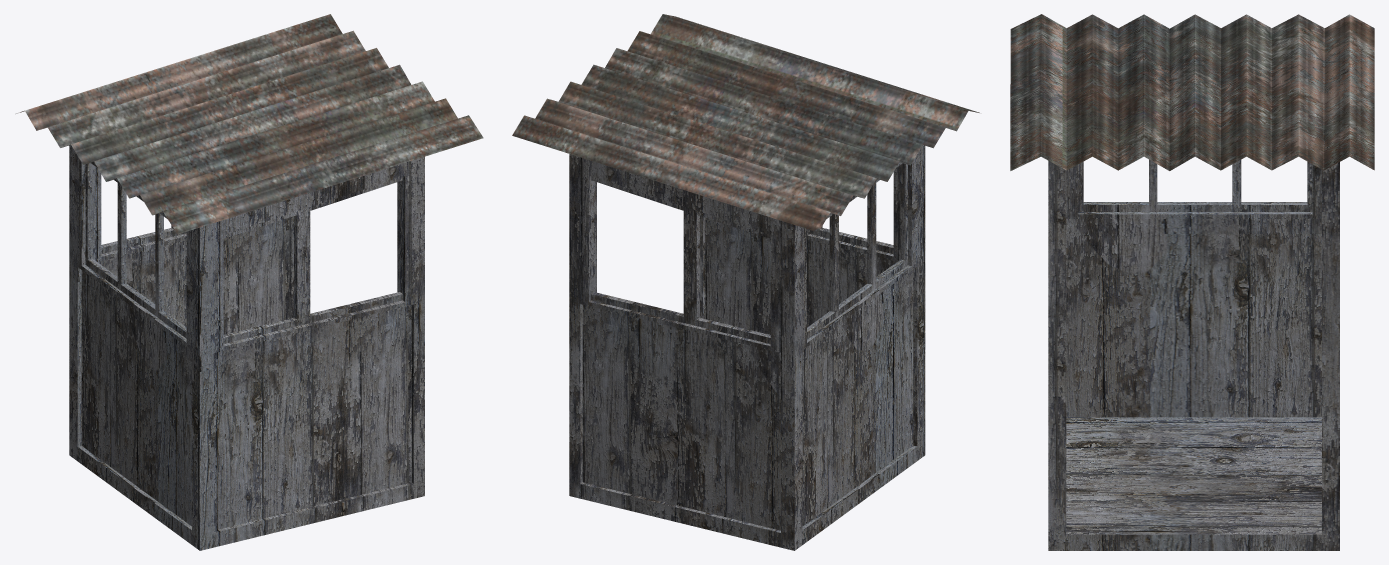
The model's file is Environmet_7.fbx.
3 views of the same model, side by side, from view 1: azimuth 30°, elevation 25°; view 2: azimuth 150°, elevation 25°; view 3: azimuth 270°, elevation 25° (orthographic). The views are drawn at different scales.
Visible parts, largest first — view 1: Environmet_7; view 2: Environmet_7; view 3: Environmet_7.
Boxes of the visible parts, bbox=[...] form: Environmet_7: bbox=[16, 14, 483, 550]; Environmet_7: bbox=[512, 14, 979, 550]; Environmet_7: bbox=[1010, 14, 1374, 550].
Bounding box in the file's own units: 2.58 × 3.01 × 2.38.
2 materials, 2 textured.
